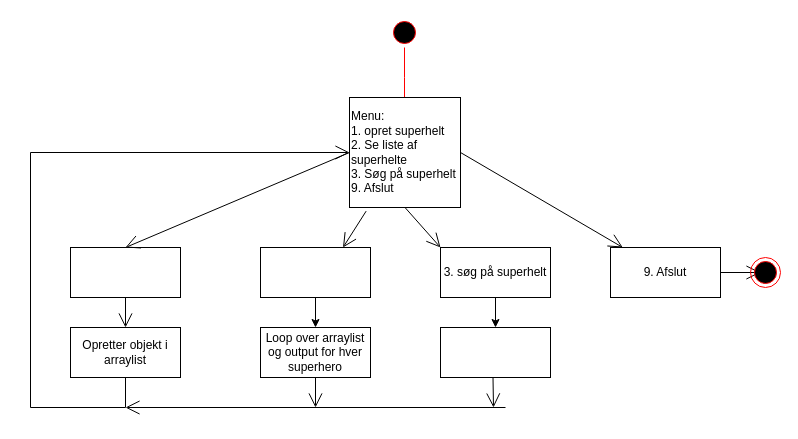
This 798x439 diagram has some shape labels left out. Each missing label, with the centre of its shape:
1. Opret superhelt indtast data: the point at 125,272
2. se liste af superhelte: the point at 315,272
